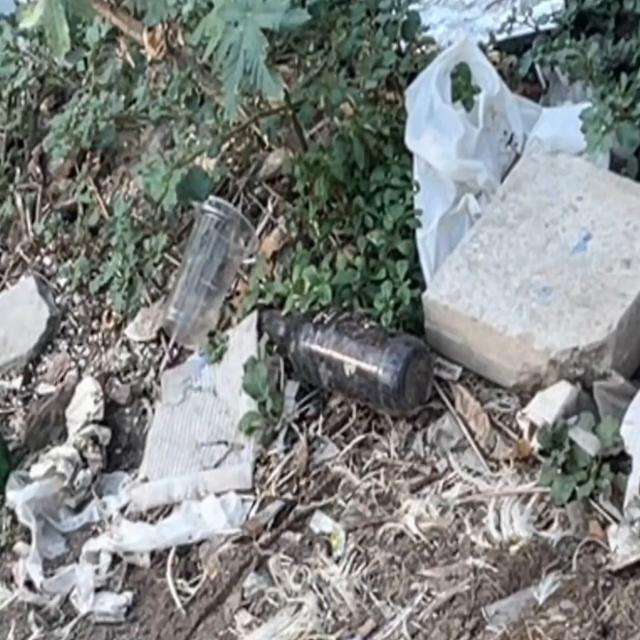paper: (4, 430, 215, 602)
plastic: (394, 34, 602, 186), (164, 210, 270, 369)
